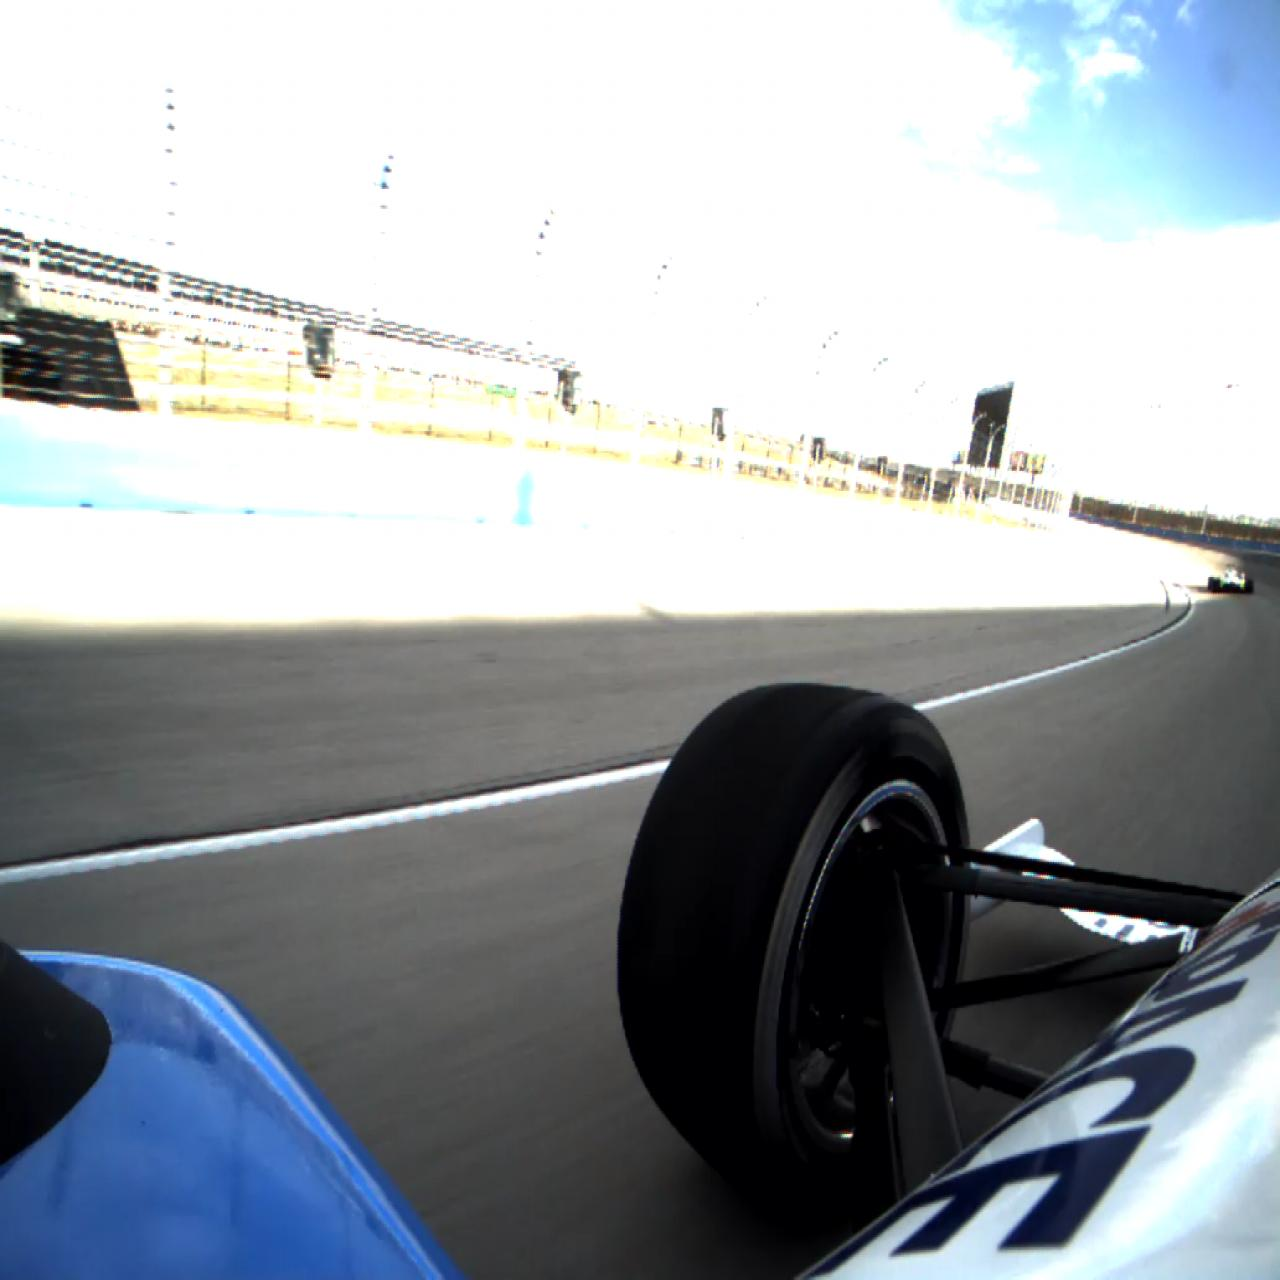AV: (1207, 564, 1255, 594)
Wheel: (620, 682, 974, 1201), (1246, 578, 1255, 594), (1212, 578, 1220, 594), (1207, 576, 1214, 590)
